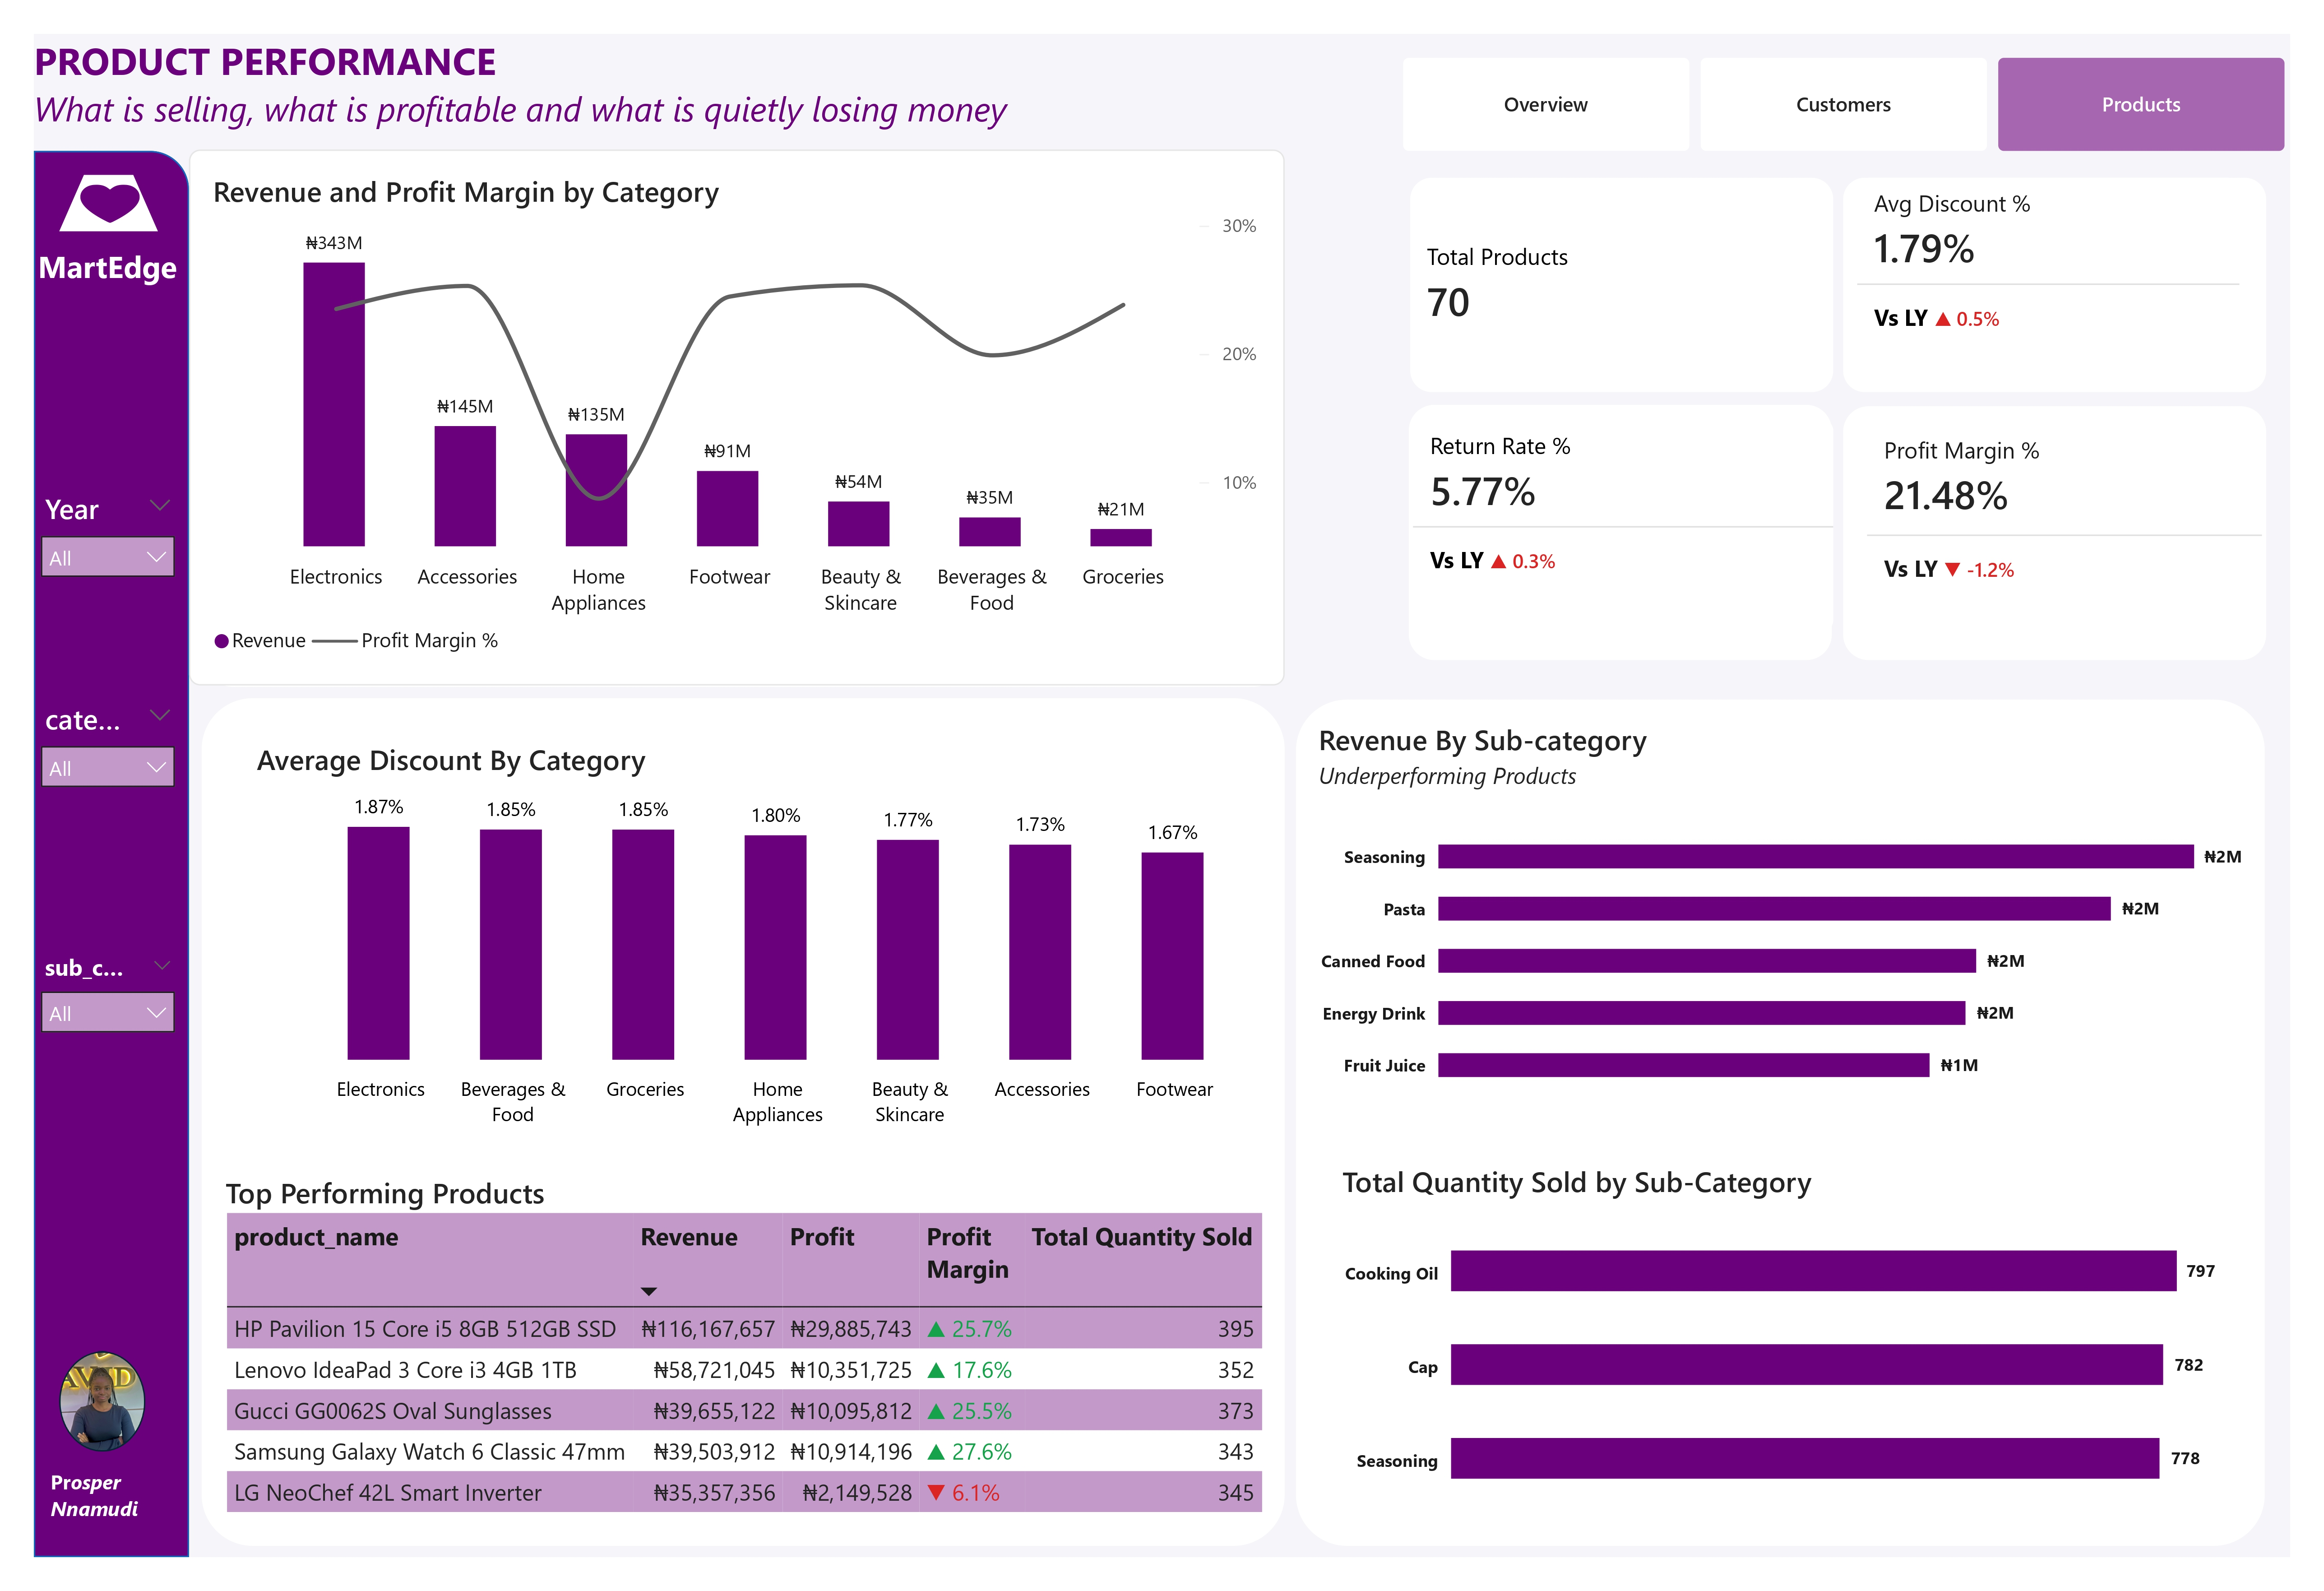

This screenshot's page, from the dashboard's own definition file:
{"tool":"powerbi","page":{"name":"Products","canvas":[1600,1080],"ordinal":2},"visuals":[{"type":"shape","box":[0,0,1600,1080],"z":0},{"type":"shape","box":[17.5,100,70,40],"z":0,"group":"g1"},{"type":"shape","box":[32.2,107.3,42.3,26.7],"z":1000,"group":"g1"},{"type":"shape","box":[1283.3,263.5,300.1,180.5],"z":1000},{"type":"shape","box":[1283.3,102.5,300.1,151.3],"z":2000},{"type":"shape","box":[975.9,102.5,300.1,151.3],"z":3000},{"type":"shape","box":[975,262.5,300,181.2],"z":4000},{"type":"shape","box":[0,82.9,109.8,997.6],"z":5000},{"type":"shape","box":[119.1,83,768.1,379.8],"z":6000},{"type":"shape","box":[894.9,471.8,687.2,600],"z":7000},{"type":"shape","box":[119.1,471.3,768.1,601.1],"z":8000},{"type":"tableEx","title":"Top Performing Products","fields":{"Values":["dim_product.product_name","_Measure.Total Revenue","_Measure.Total Profit","_Measure.Profit Margin","_Measure.Total Quantity Sold"]},"box":[119.6,792.9,768.5,287.9],"z":9000},{"type":"lineClusteredColumnComboChart","title":"Revenue and Profit Margin by Category","fields":{"Category":["dim_product.category"],"Y":["_Measure.Total Revenue"],"Y2":["_Measure.Profit Margin %"]},"box":[110.3,82.1,776.9,379.5],"z":10000},{"type":"barChart","title":"Revenue By Sub-category","fields":{"Category":["dim_product.sub_category"],"Y":["_Measure.Total Revenue"]},"box":[894.9,471.8,687.2,300],"z":11000},{"type":"clusteredBarChart","title":"Total Quantity Sold by Sub-Category","fields":{"Category":["dim_product.sub_category"],"Y":["_Measure.Total Quantity Sold"]},"box":[912.2,785.4,651.2,285.4],"z":12000},{"type":"cardVisual","fields":{"Data":["_Measure.Total Products"]},"box":[975.9,102.5,300.1,148.8],"z":13000},{"type":"cardVisual","fields":{"Data":["_Measure.Return Rate %"]},"box":[978.4,272.5,298,151],"z":14000},{"type":"cardVisual","fields":{"Data":["_Measure.Profit Margin %"]},"box":[1300,272.5,280.4,164.7],"z":15000},{"type":"cardVisual","fields":{"Data":["_Measure.Avg Discount %"]},"box":[1293.1,102.5,270.8,148.8],"z":16000},{"type":"pageNavigator","box":[971,17.1,627,65.9],"z":16001},{"type":"image","box":[12.2,934.4,73.2,70.8],"z":16002},{"type":"slicer","fields":{"Values":["Date.Year"]},"box":[0,322.1,104.9,85.4],"z":16003},{"type":"slicer","fields":{"Values":["dim_product.category"]},"box":[0,470.9,104.9,85.4],"z":16004},{"type":"slicer","fields":{"Values":["dim_product.sub_category"]},"box":[0,651.4,104.9,85.4],"z":16005},{"type":"textbox","box":[0,0,929.6,83],"z":16006},{"type":"group","id":"g1","title":"Group 1","box":[17.5,100,70,40],"z":16007},{"type":"textbox","box":[2.5,150,107.5,55],"z":16008},{"type":"textbox","box":[12.2,1017.4,75.6,53.7],"z":16009},{"type":"lineClusteredColumnComboChart","title":"Average Discount By Category","fields":{"Category":["dim_product.category"],"Y":["_Measure.Avg Discount %"]},"box":[141.5,485.5,744.1,307.4],"z":16010}]}

Visuals, with their boxes on the page's 1600x1080 design canvas (x1, y1, x2, y2). These are canvas units, not pixel positions in the 2324x1591 screenshot, which may show the page scaled, cropped or inside an application window:
shape: detection(0, 0, 1600, 1080)
shape: detection(18, 100, 88, 140)
shape: detection(32, 107, 74, 134)
shape: detection(1283, 264, 1583, 444)
shape: detection(1283, 102, 1583, 254)
shape: detection(976, 102, 1276, 254)
shape: detection(975, 262, 1275, 444)
shape: detection(0, 83, 110, 1080)
shape: detection(119, 83, 887, 463)
shape: detection(895, 472, 1582, 1072)
shape: detection(119, 471, 887, 1072)
"Top Performing Products" tableEx: detection(120, 793, 888, 1081)
"Revenue and Profit Margin by Category" lineClusteredColumnComboChart: detection(110, 82, 887, 462)
"Revenue By Sub-category" barChart: detection(895, 472, 1582, 772)
"Total Quantity Sold by Sub-Category" clusteredBarChart: detection(912, 785, 1563, 1071)
cardVisual - _Measure.Total Products: detection(976, 102, 1276, 251)
cardVisual - _Measure.Return Rate %: detection(978, 272, 1276, 424)
cardVisual - _Measure.Profit Margin %: detection(1300, 272, 1580, 437)
cardVisual - _Measure.Avg Discount %: detection(1293, 102, 1564, 251)
pageNavigator: detection(971, 17, 1598, 83)
image: detection(12, 934, 85, 1005)
slicer - Date.Year: detection(0, 322, 105, 408)
slicer - dim_product.category: detection(0, 471, 105, 556)
slicer - dim_product.sub_category: detection(0, 651, 105, 737)
textbox: detection(0, 0, 930, 83)
"Group 1" group: detection(18, 100, 88, 140)
textbox: detection(2, 150, 110, 205)
textbox: detection(12, 1017, 88, 1071)
"Average Discount By Category" lineClusteredColumnComboChart: detection(142, 486, 886, 793)
